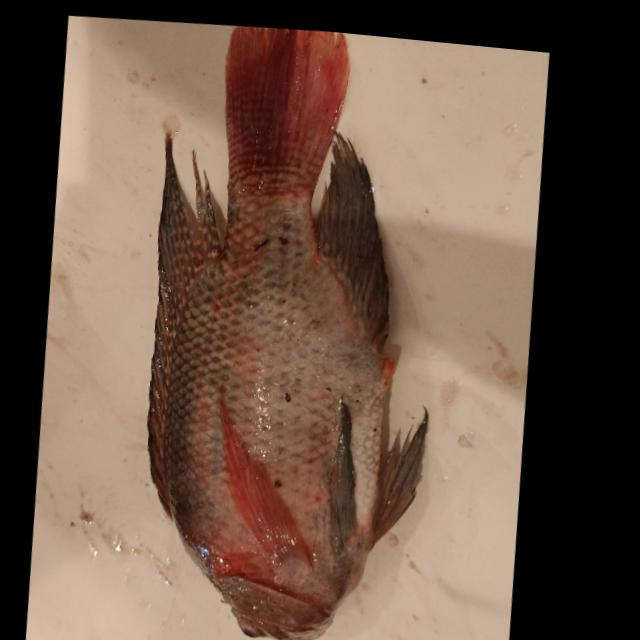Tilapia: (109, 17, 477, 640)
